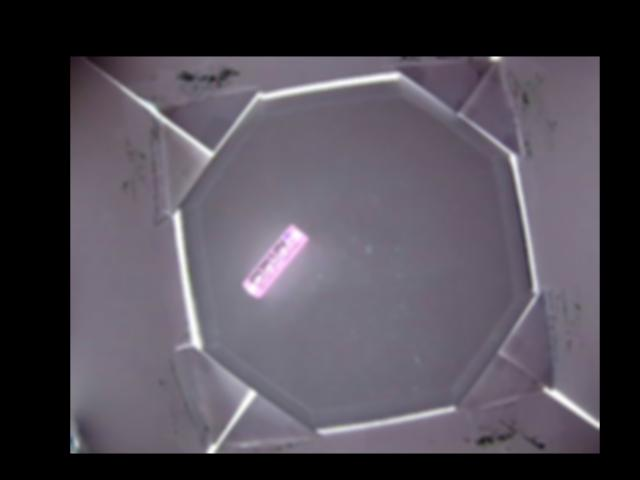Battery: (242, 224, 308, 299)
